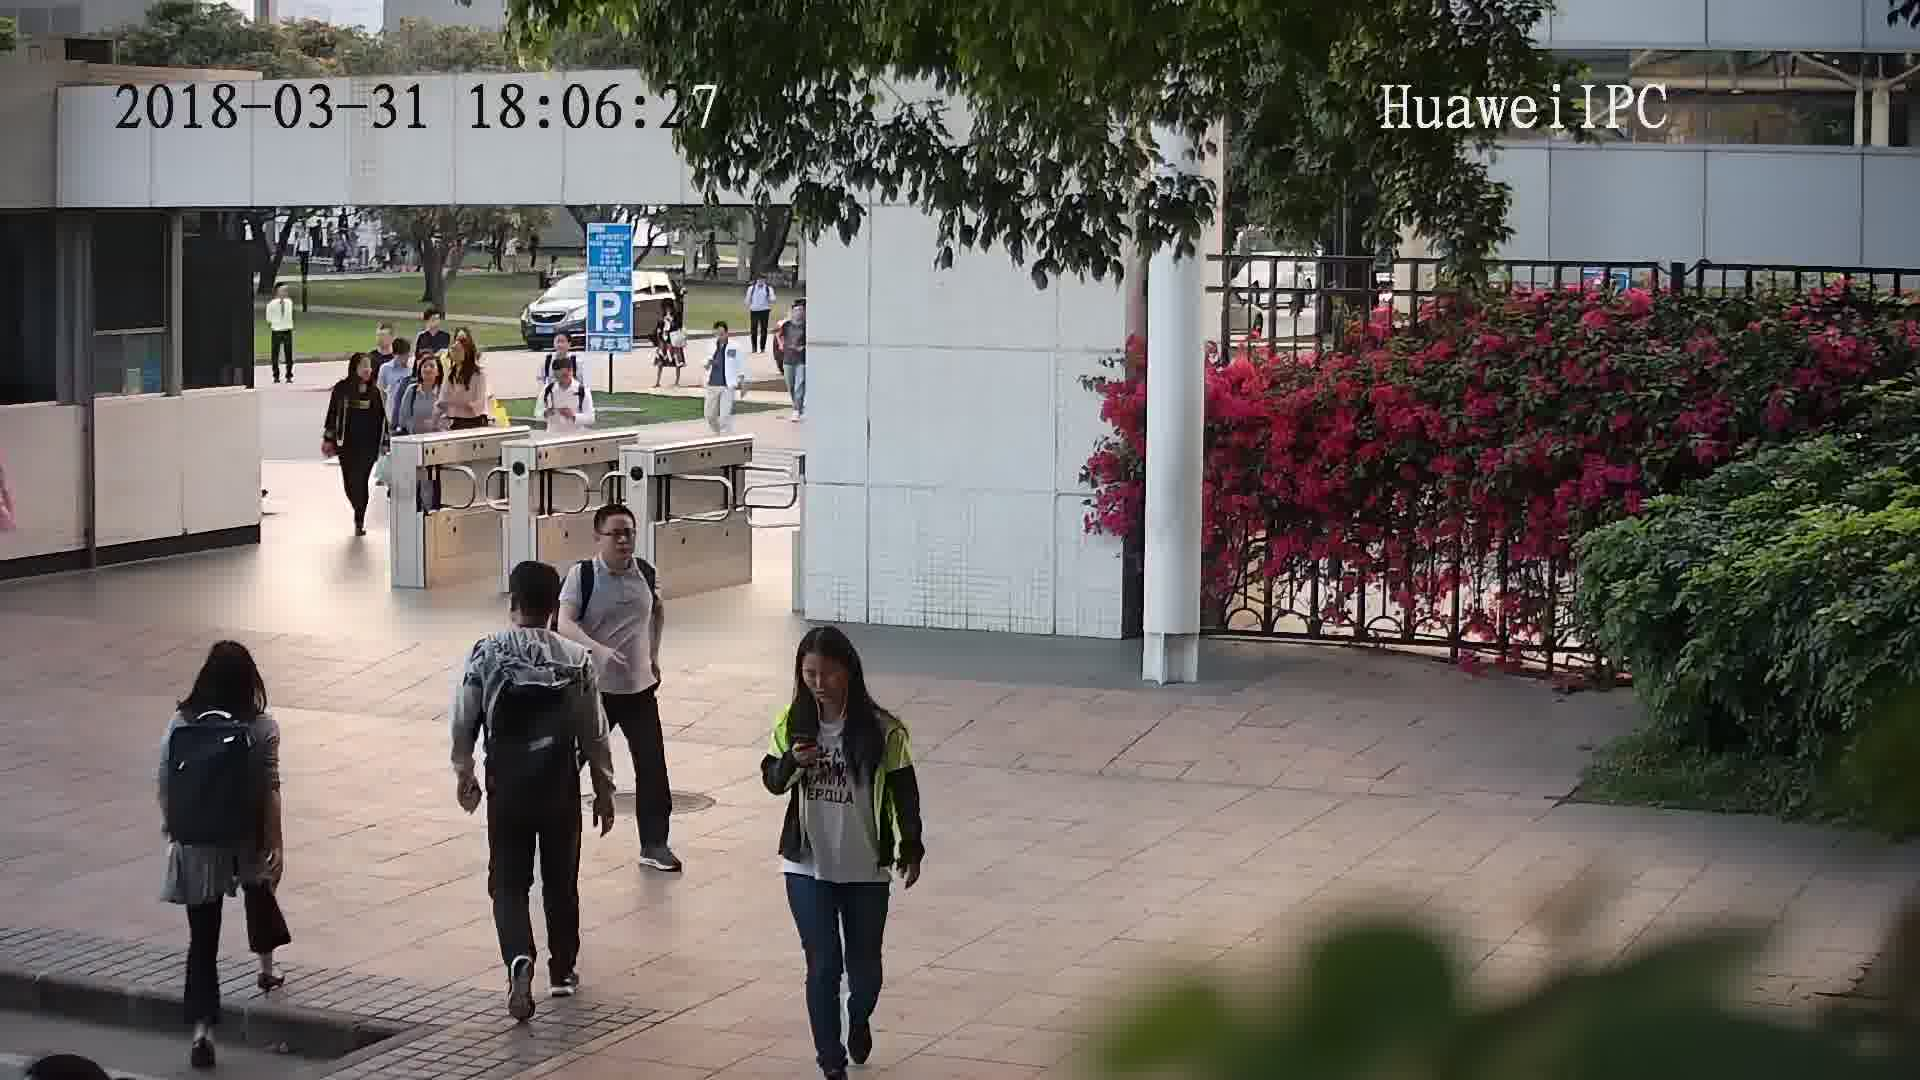face: (801, 656, 851, 706), (596, 517, 641, 562)
person: (778, 622, 903, 748), (467, 555, 593, 675), (160, 637, 278, 749), (564, 503, 659, 593), (332, 350, 382, 401), (440, 332, 487, 385), (543, 355, 593, 401), (399, 354, 445, 402), (537, 328, 585, 370), (377, 336, 419, 382), (411, 306, 452, 347), (364, 324, 398, 364), (710, 315, 740, 355), (785, 296, 812, 330), (266, 277, 295, 308), (749, 268, 776, 292)
